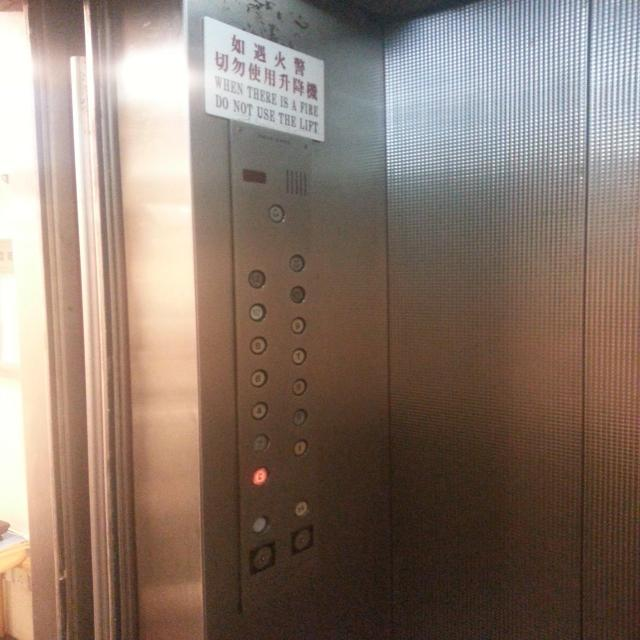1: (291, 436, 310, 457)
10: (248, 302, 267, 322)
12: (247, 268, 266, 289)
3: (290, 407, 309, 427)
4: (250, 400, 269, 420)
5: (290, 376, 308, 397), (288, 253, 305, 272)
6: (249, 367, 268, 387)
7: (290, 346, 308, 367)
8: (248, 334, 267, 355)
9: (288, 315, 307, 335)
G: (251, 465, 269, 485)
alarm: (266, 202, 286, 223)
blur: (251, 433, 269, 453), (288, 284, 306, 304)
close: (291, 498, 310, 518)
empty: (251, 514, 270, 534)
keyhole: (246, 541, 279, 574), (289, 524, 316, 554)
